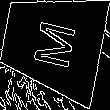M_W: (27, 16, 78, 71)
